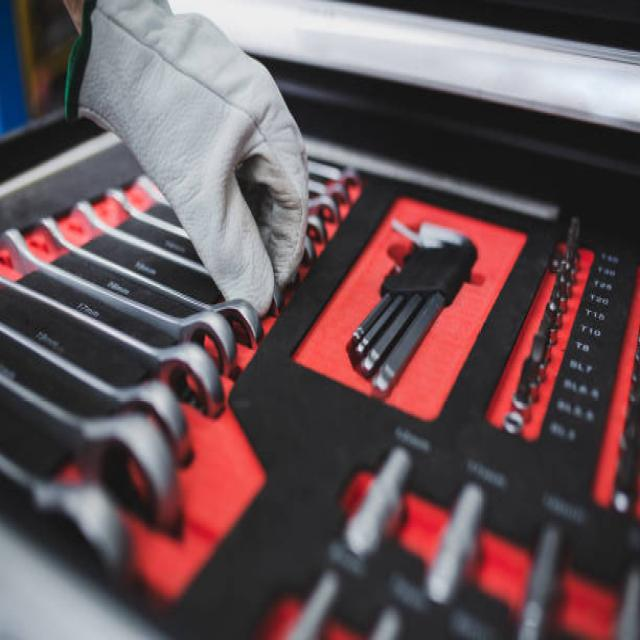Gloves: (61, 0, 315, 327)
